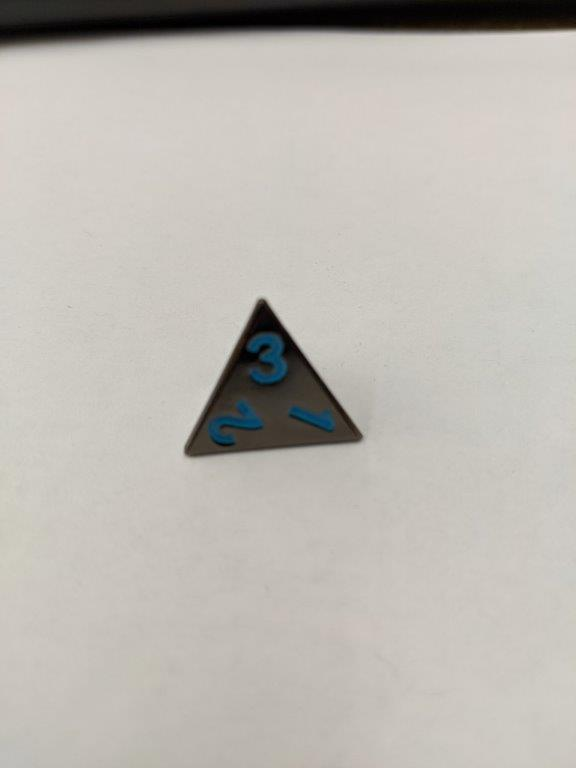d4-3: (184, 296, 368, 467)
